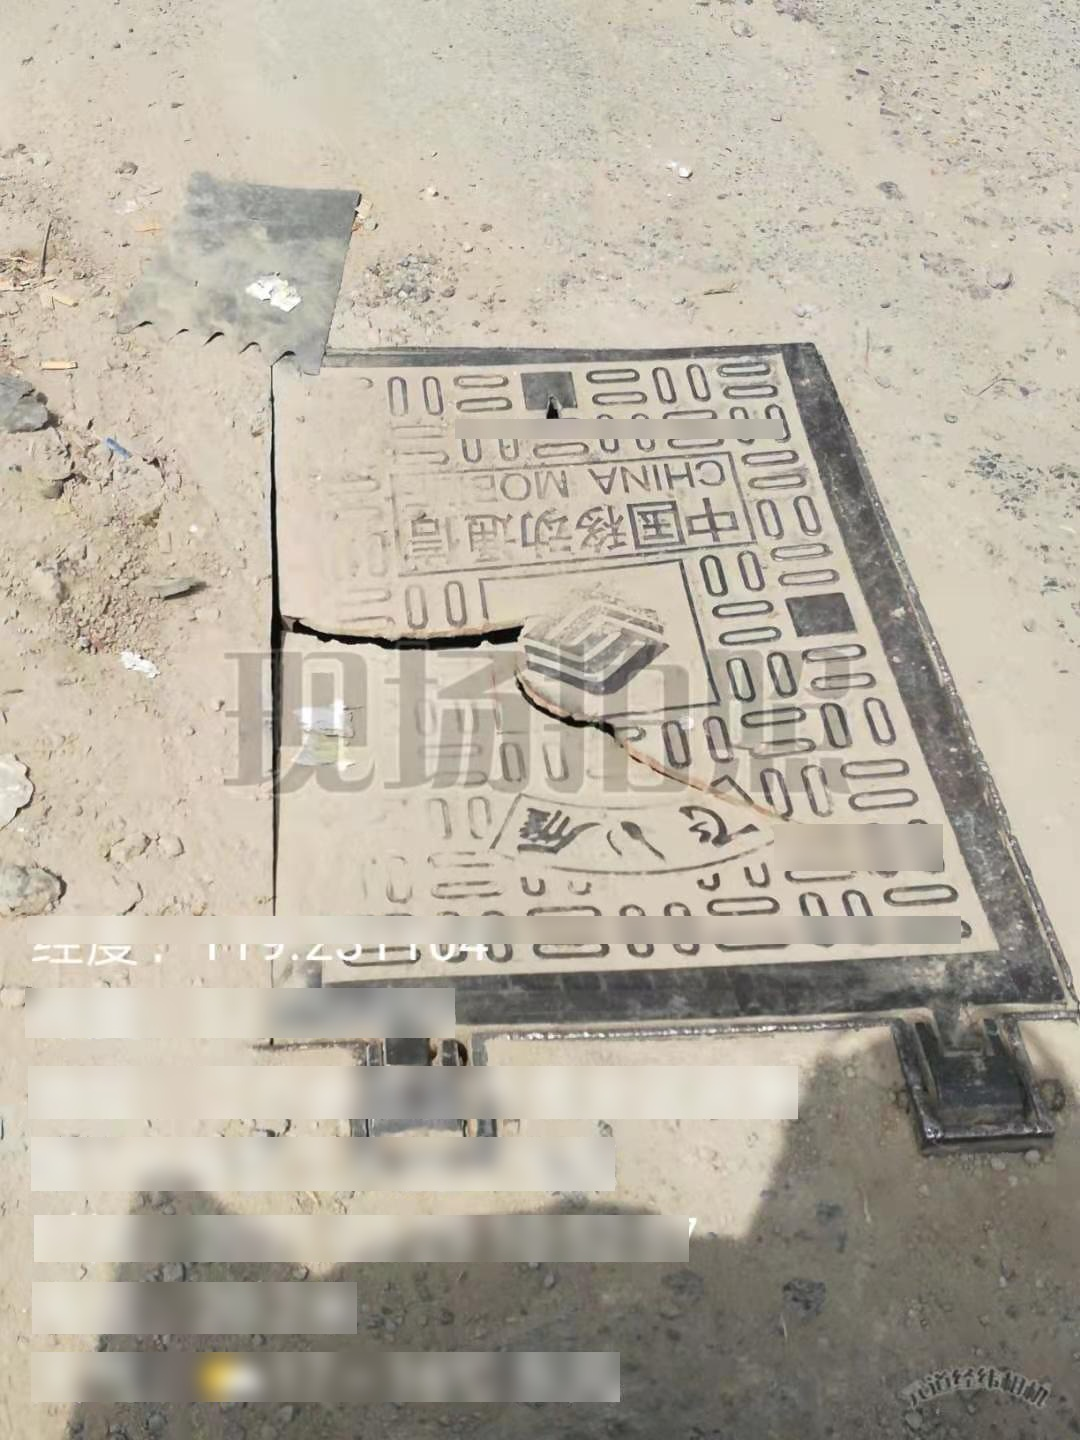broke: (248, 339, 1080, 1172)
